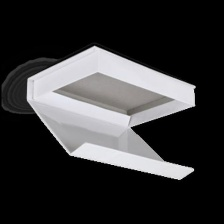book: (23, 40, 206, 188)
